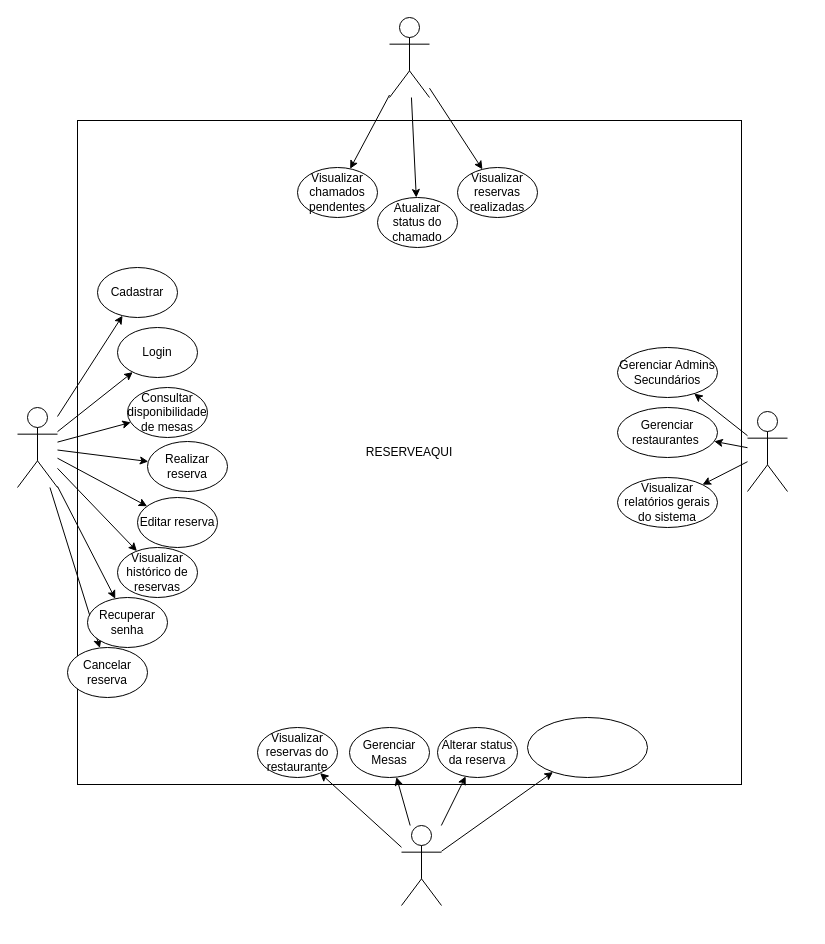
Some shapes in this 825 by 944 pixel diagram are drawn without their labels. Each missing label, with the centre of its shape:
"Admin Secundário (Proprietário)" goes at [421,865].
"Admin SIstema" goes at [767,451].
"Cliente" goes at [37,447].
"Funcionário" goes at [409,57].
"Gerar relatório de ocupação/horários mais movimentados" goes at [587,747].
